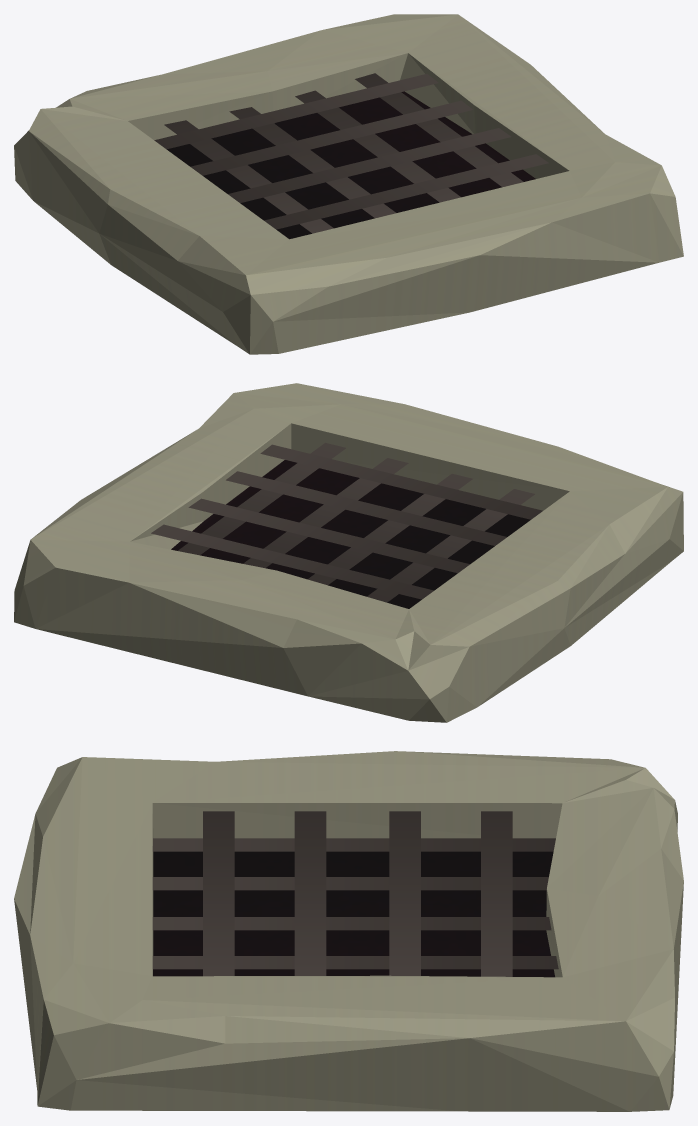
Rendered from Well_1.fbx.
3 views of the same model, one above another, from view 1: azimuth 30°, elevation 25°; view 2: azimuth 150°, elevation 25°; view 3: azimuth 270°, elevation 25° (orthographic). The views are drawn at different scales.
Visible parts, largest first — view 1: polySurface9737; view 2: polySurface9737; view 3: polySurface9737.
Boxes of the visible parts, box(x1,y1,x2,y2) form: polySurface9737: box(14, 14, 683, 354); polySurface9737: box(14, 383, 683, 722); polySurface9737: box(14, 751, 683, 1111).
Bounding box in the file's own units: 160 × 24.32 × 159.
